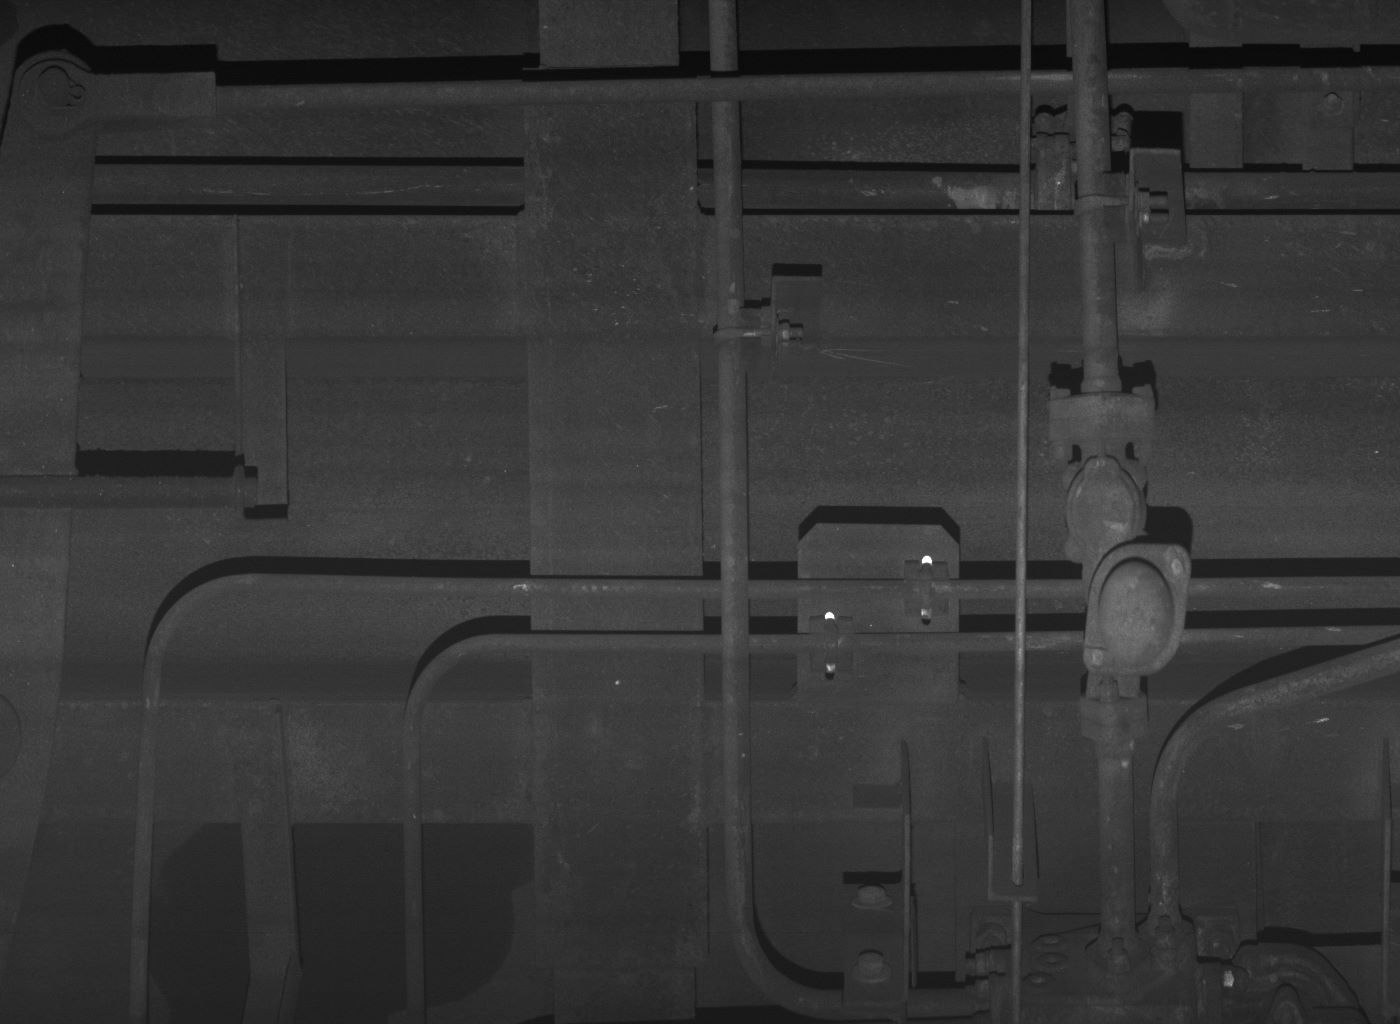normal: (1063, 451, 1148, 564)
